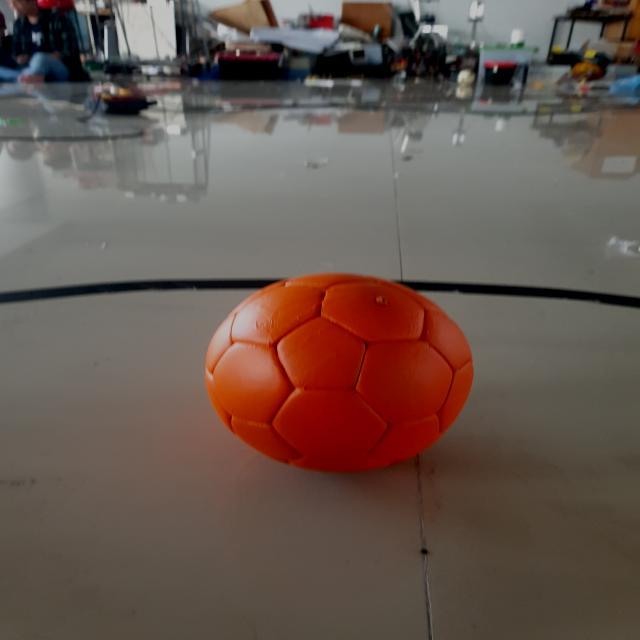bola: (160, 260, 503, 480)
